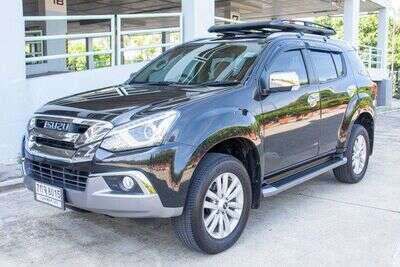pickup: (21, 20, 377, 254)
